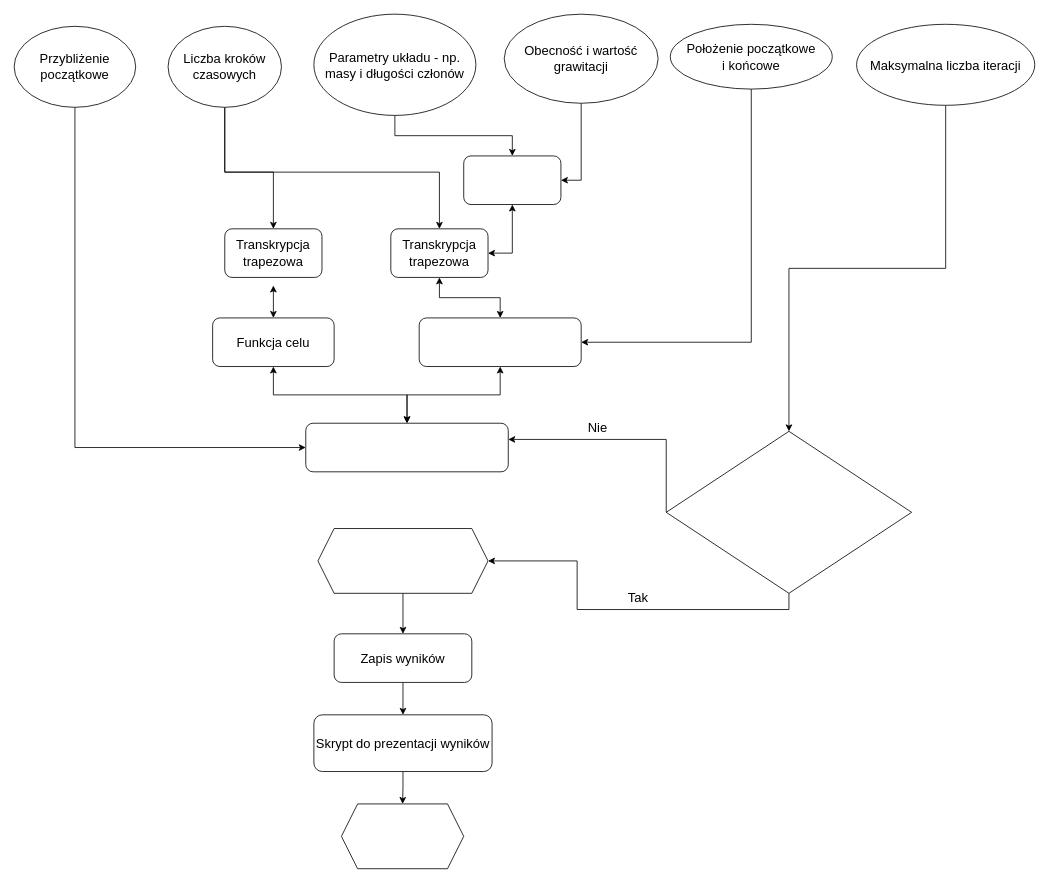
Some shapes in this 1049 by 883 pixel diagram are drawn without their labels. The shapes that lost their labels are listed below. From the top down, each one's box as (x1, y1, x2, y2) in pixels, then its label:
(463, 155, 561, 205): Funkcja obliczająca ruch układu
(418, 317, 581, 367): Funkcja ograniczeń
(305, 422, 508, 472): Algorytm SQP
(665, 431, 912, 593): Czy osiągnięto zbieżność lub maksymalną liczbę iteracji?
(317, 528, 488, 593): Wektor optymalny
(341, 803, 464, 869): Wykresy
